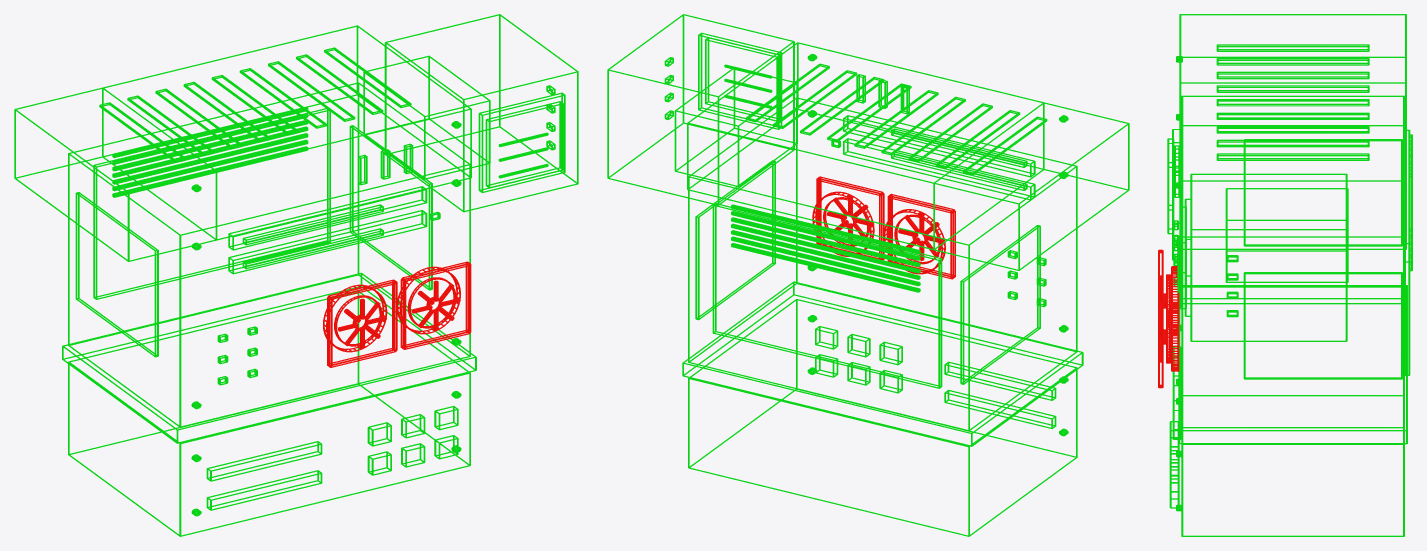
Rendered from asteroid-tracker-highlight-cooling-fans.glb.
3 views of the same model, side by side, from view 1: azimuth 30°, elevation 25°; view 2: azimuth 150°, elevation 25°; view 3: azimuth 270°, elevation 25° (orthographic). The views are drawn at different scales.
Parts seen in each view (by area): view 1: chassis technical wire, user-interface technical wire, cooling-fans technical wire, data-storage technical wire; view 2: chassis technical wire, user-interface technical wire, cooling-fans technical wire, data-storage technical wire; view 3: chassis technical wire, user-interface technical wire, cooling-fans technical wire, data-storage technical wire.
Boxes of the visible parts, x1,y1,x2,y2 form: chassis technical wire: [62, 25, 476, 536]; user-interface technical wire: [363, 14, 578, 212]; cooling-fans technical wire: [323, 261, 471, 367]; data-storage technical wire: [14, 87, 216, 261]; chassis technical wire: [682, 42, 1083, 536]; user-interface technical wire: [607, 14, 797, 205]; cooling-fans technical wire: [812, 176, 955, 279]; data-storage technical wire: [934, 102, 1129, 270]; chassis technical wire: [1167, 44, 1412, 536]; user-interface technical wire: [1177, 173, 1348, 341]; cooling-fans technical wire: [1158, 249, 1179, 388]; data-storage technical wire: [1179, 14, 1406, 125].
Bounding box in the file's own units: 2.6 × 1.98 × 1.26.
